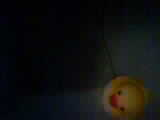duck: (91, 63, 139, 111)
